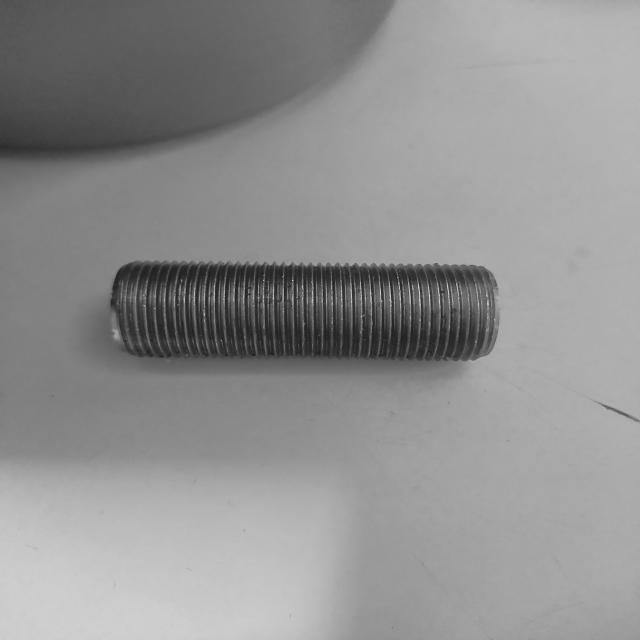Normal: (111, 259, 500, 363)
